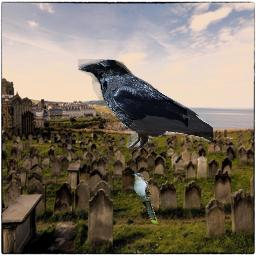Crow: (78, 59, 213, 148)
Cuckoo: (132, 173, 158, 224)
